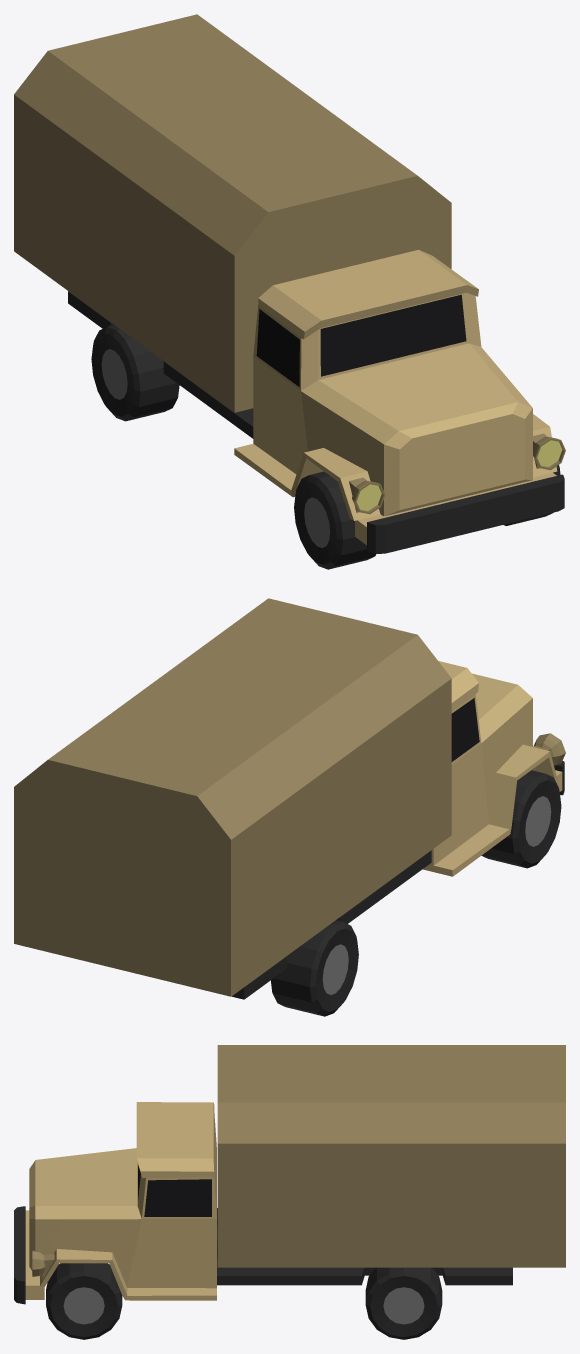
The model's file is Military_Truck_02.fbx.
3 views of the same model, one above another, from view 1: azimuth 30°, elevation 25°; view 2: azimuth 150°, elevation 25°; view 3: azimuth 270°, elevation 25° (orthographic). The views are drawn at different scales.
Parts seen in each view (by area): view 1: Military_Truck_02; view 2: Military_Truck_02; view 3: Military_Truck_02.
Part boxes in pixels (left/top/right/bottom): Military_Truck_02: left=14, top=14, right=565, bottom=569; Military_Truck_02: left=14, top=598, right=565, bottom=1016; Military_Truck_02: left=14, top=1045, right=565, bottom=1339.
Bounding box in the file's own units: 4.06 × 4.9 × 10.94.
